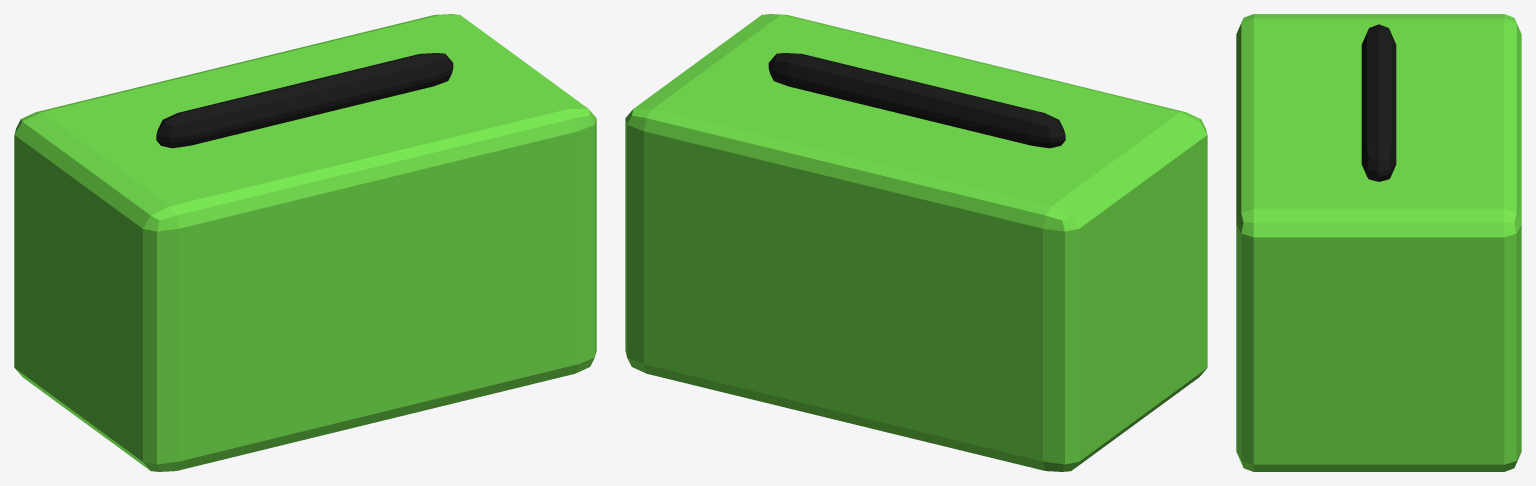
The model's file is Snake Body.fbx.
3 renders of one model, left to right at view 1: azimuth 30°, elevation 25°; view 2: azimuth 150°, elevation 25°; view 3: azimuth 270°, elevation 25°, orthographic. The views are drawn at different scales.
Visible parts, largest first — view 1: Snake Body; view 2: Snake Body; view 3: Snake Body.
Part boxes in pixels (x1=…): Snake Body: x1=14, y1=14, x2=596, y2=471; Snake Body: x1=625, y1=14, x2=1207, y2=471; Snake Body: x1=1236, y1=14, x2=1521, y2=471.
Bounding box in the file's own units: 134 × 82.79 × 75.04.
